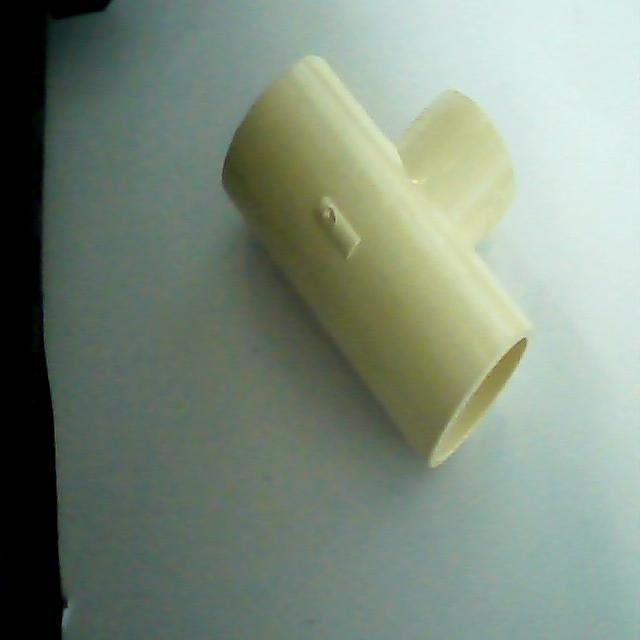T Joint: (220, 55, 535, 471)
